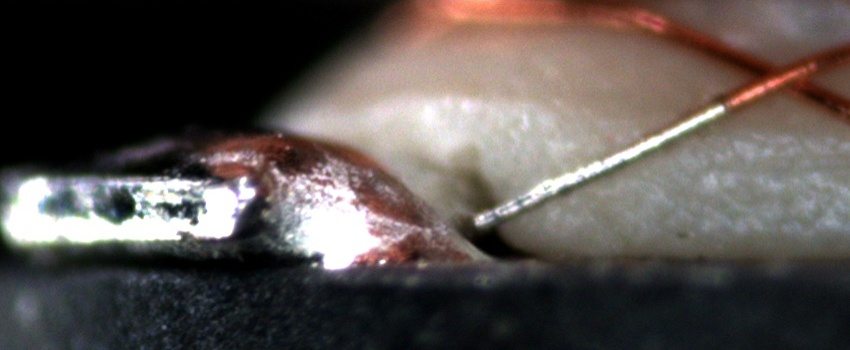CL: (729, 46, 824, 103)
DL: (712, 131, 850, 194)
TS: (466, 96, 728, 232)
